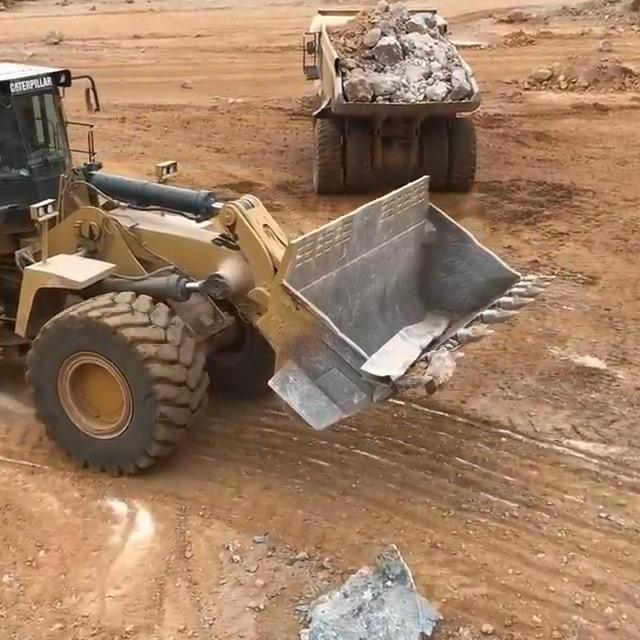dump truck: (301, 2, 494, 204)
wheel loader: (0, 61, 525, 473)
